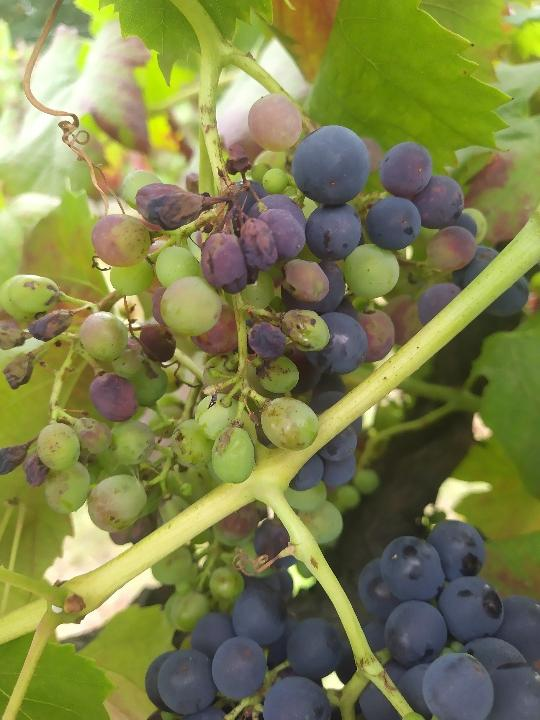grape: (0, 89, 531, 633)
